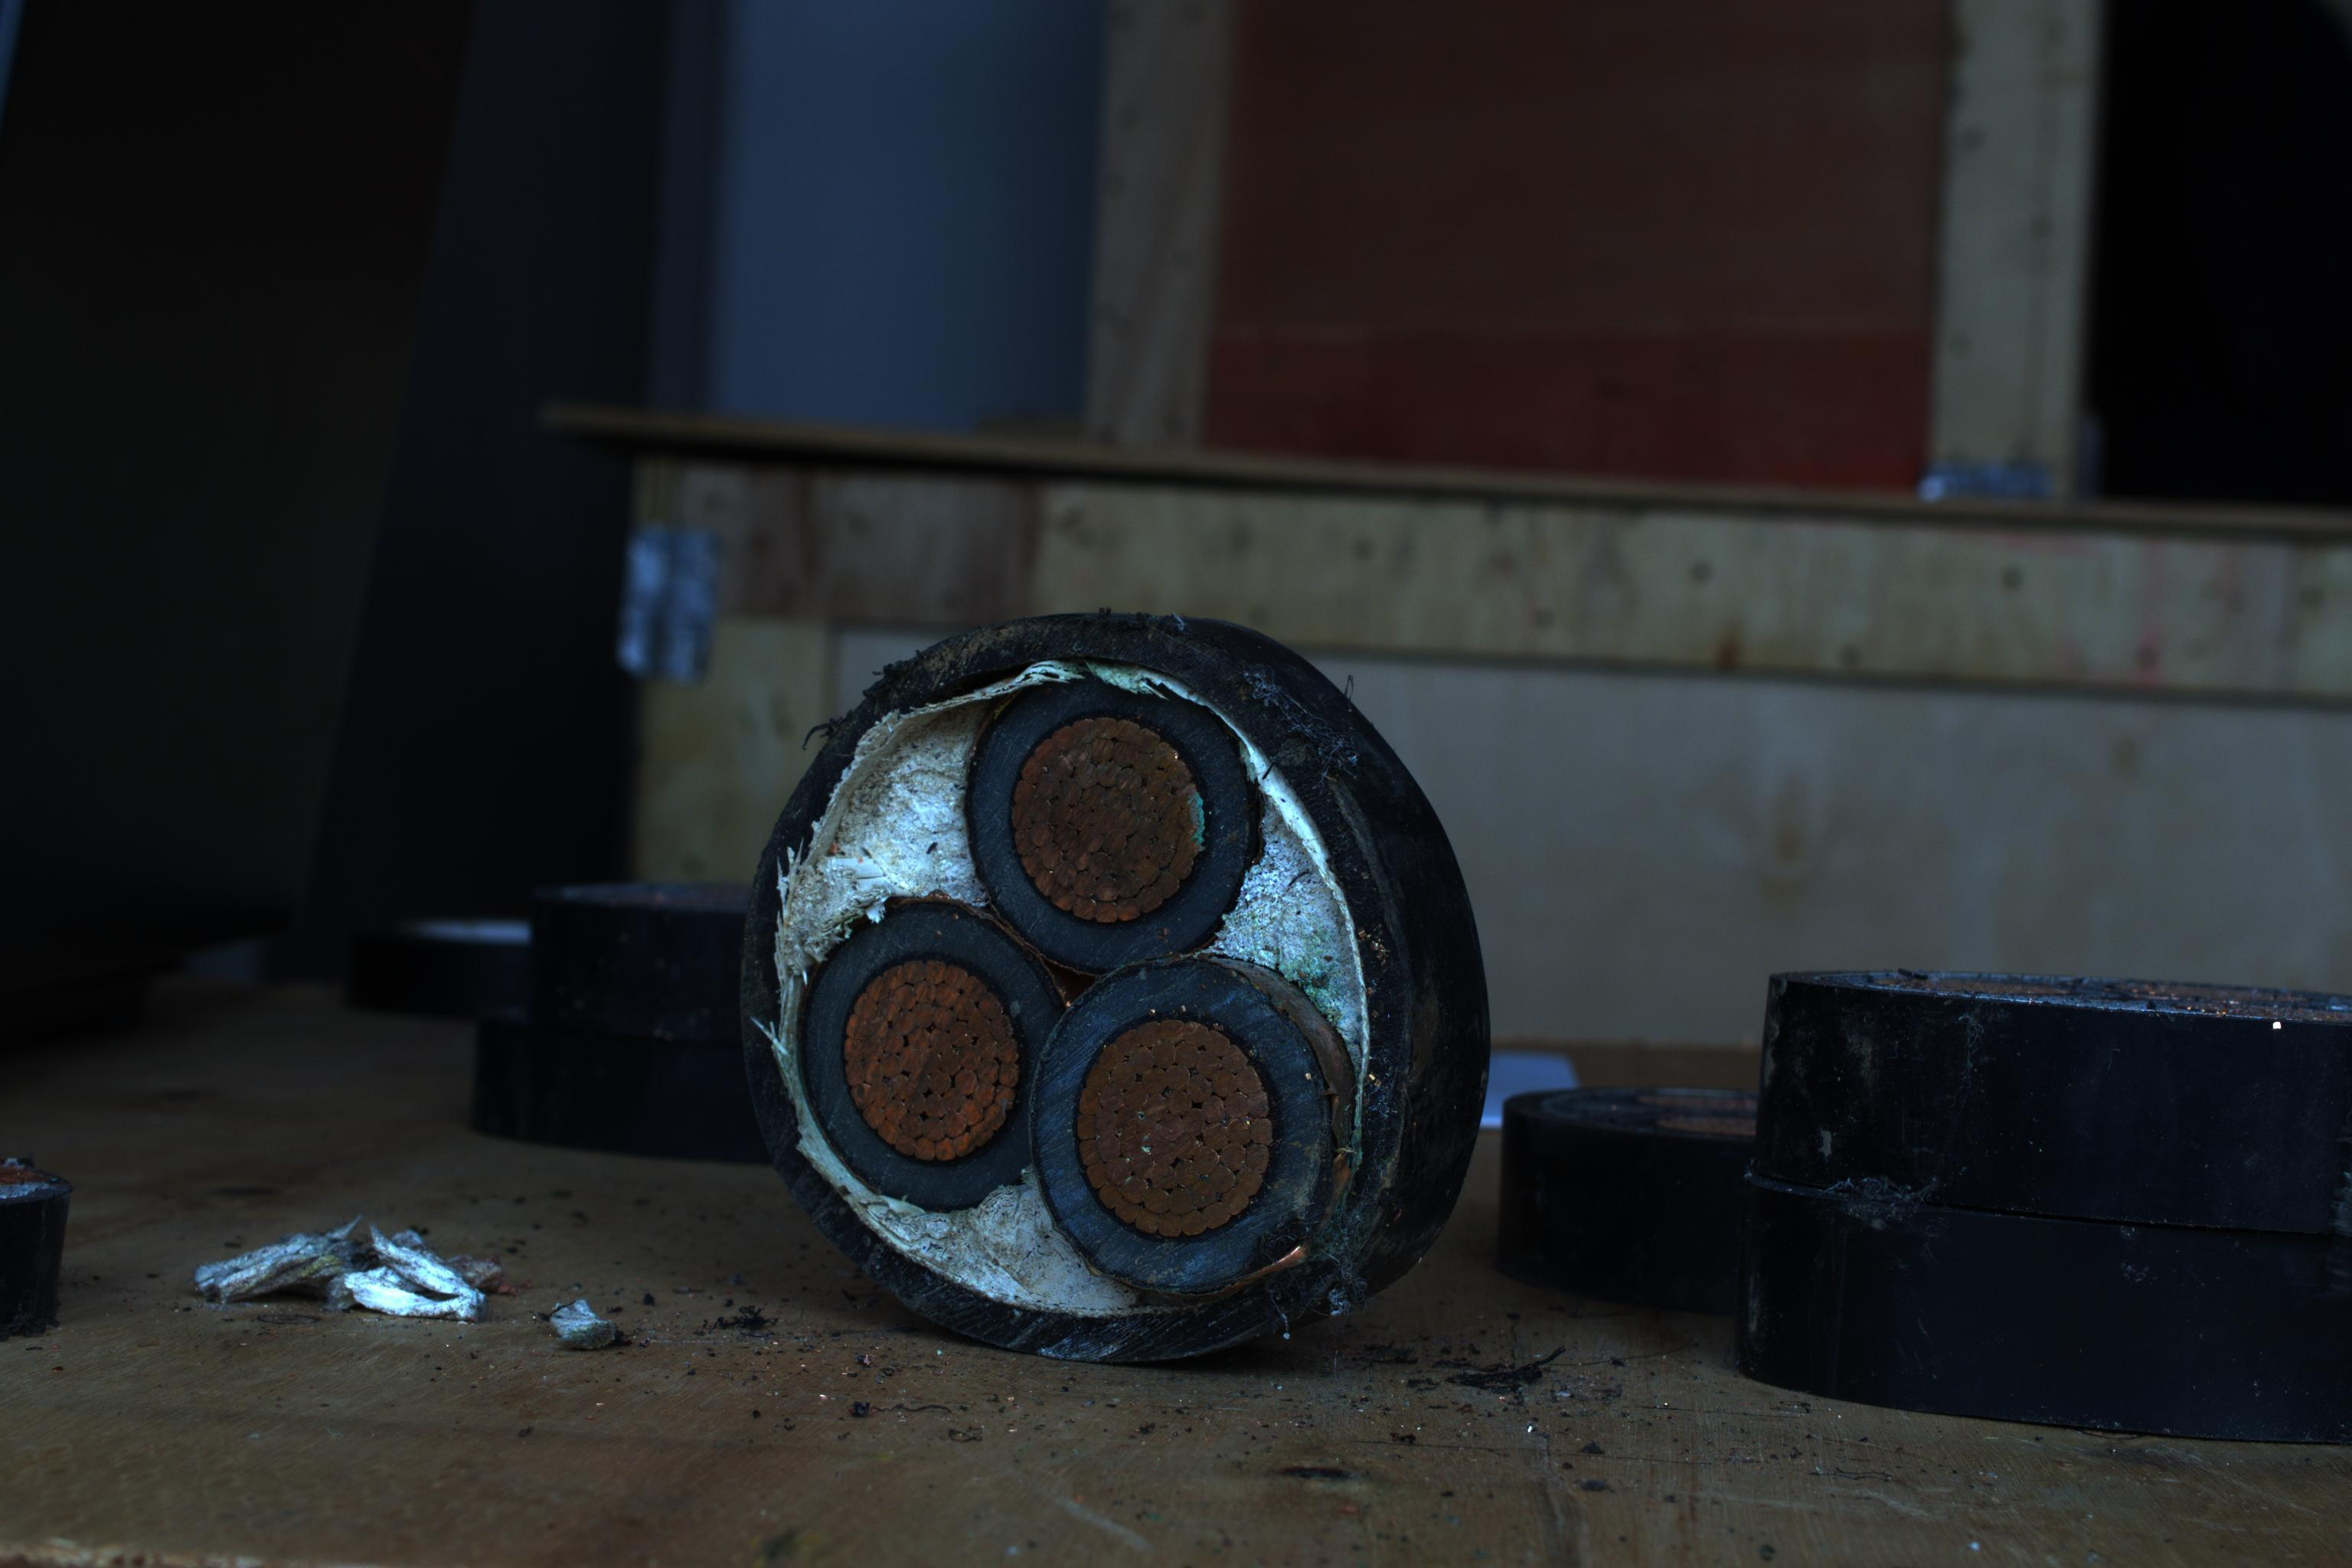ZA_YJV_8.7_10kV_3x400: (742, 633, 1414, 1323)
